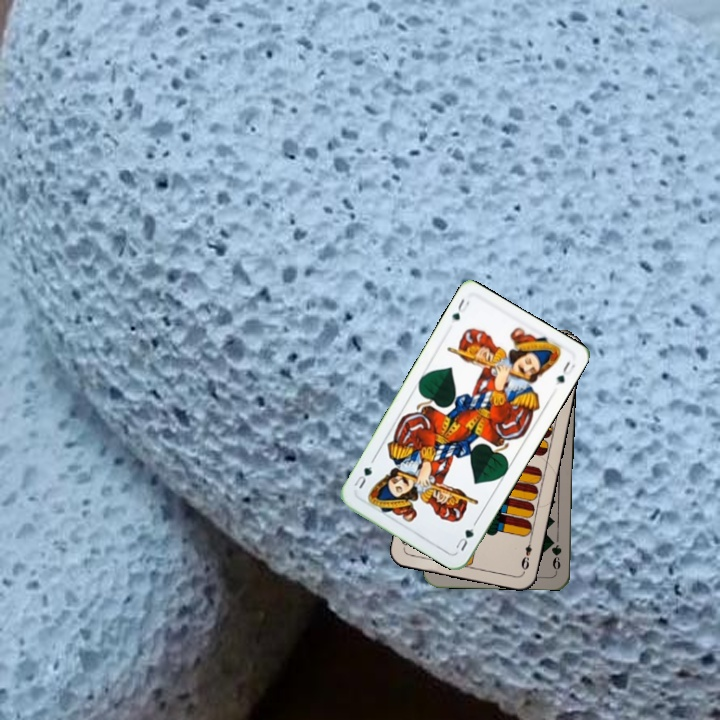E9: (517, 534, 535, 574)
G9: (548, 541, 564, 574)
GU: (451, 518, 479, 554), (447, 294, 472, 323)
